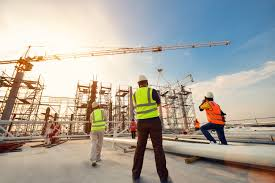hard hat: (137, 75, 148, 82), (205, 92, 213, 97), (91, 102, 98, 107)
high-vis: (131, 87, 159, 118), (205, 101, 225, 124), (90, 110, 106, 129)
